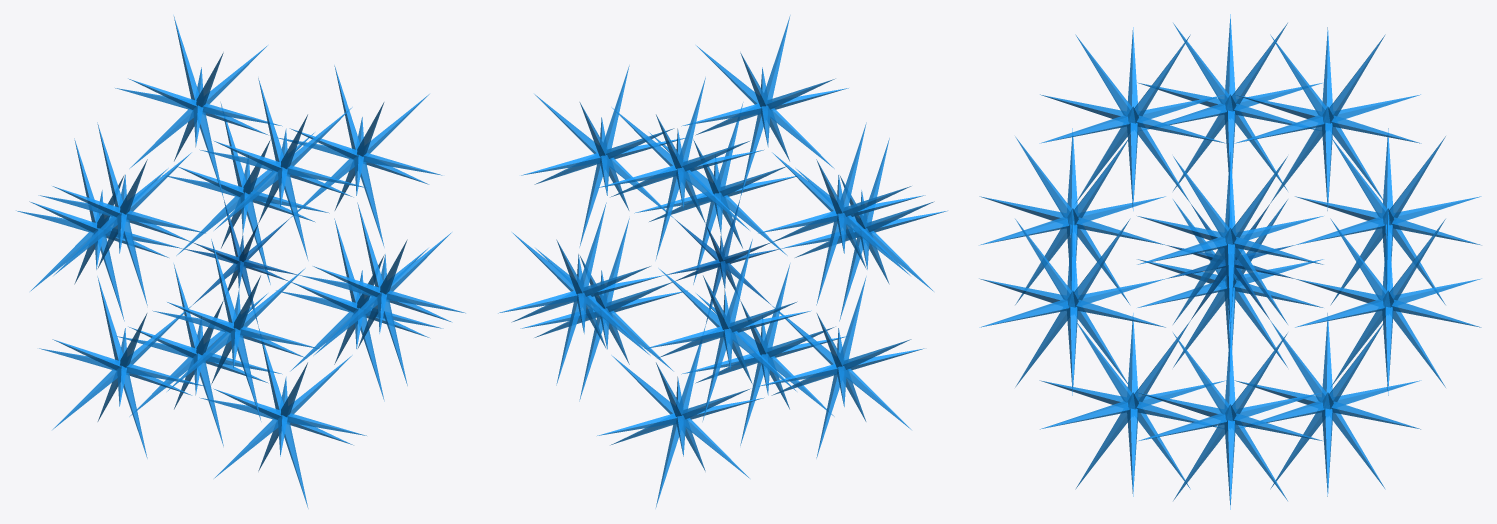
Rendered from fractalmedialinvertedpentagonalhexecontahedron1.glb.
3 renders of one model, left to right at view 1: azimuth 30°, elevation 25°; view 2: azimuth 150°, elevation 25°; view 3: azimuth 270°, elevation 25°, orthographic. The views are drawn at different scales.
Size of the model in its own units: 11.06 by 11.06 by 11.06.
